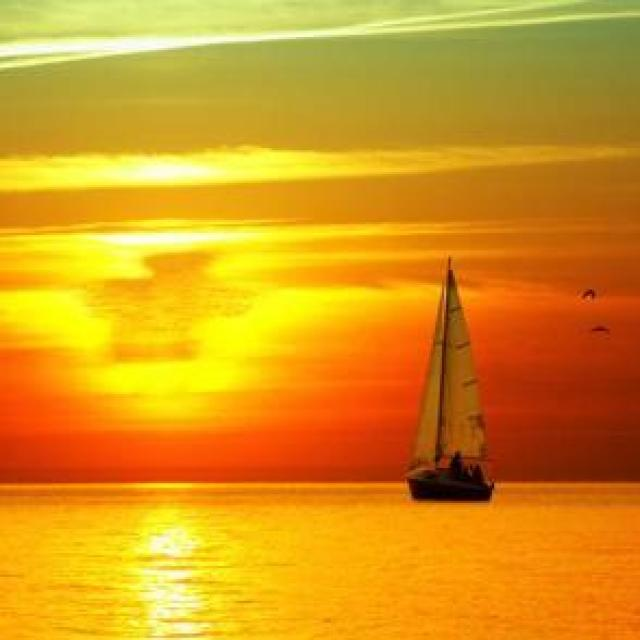sailboat: (400, 254, 503, 500)
